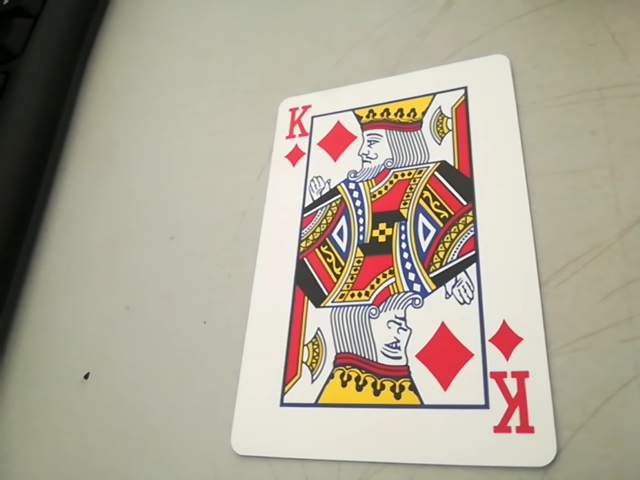fk k: (483, 316, 534, 445), (277, 97, 311, 170)
